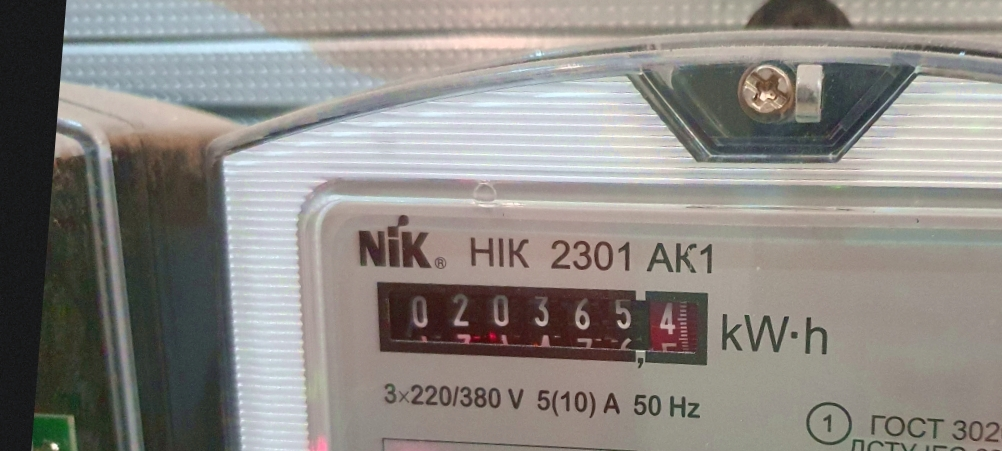0: (407, 292, 431, 328), (490, 291, 511, 328)
2: (447, 290, 472, 327)
3: (530, 291, 551, 327)
4: (657, 299, 678, 335)
5: (611, 296, 634, 330)
6: (571, 294, 593, 331)
screen: (355, 255, 730, 386)
